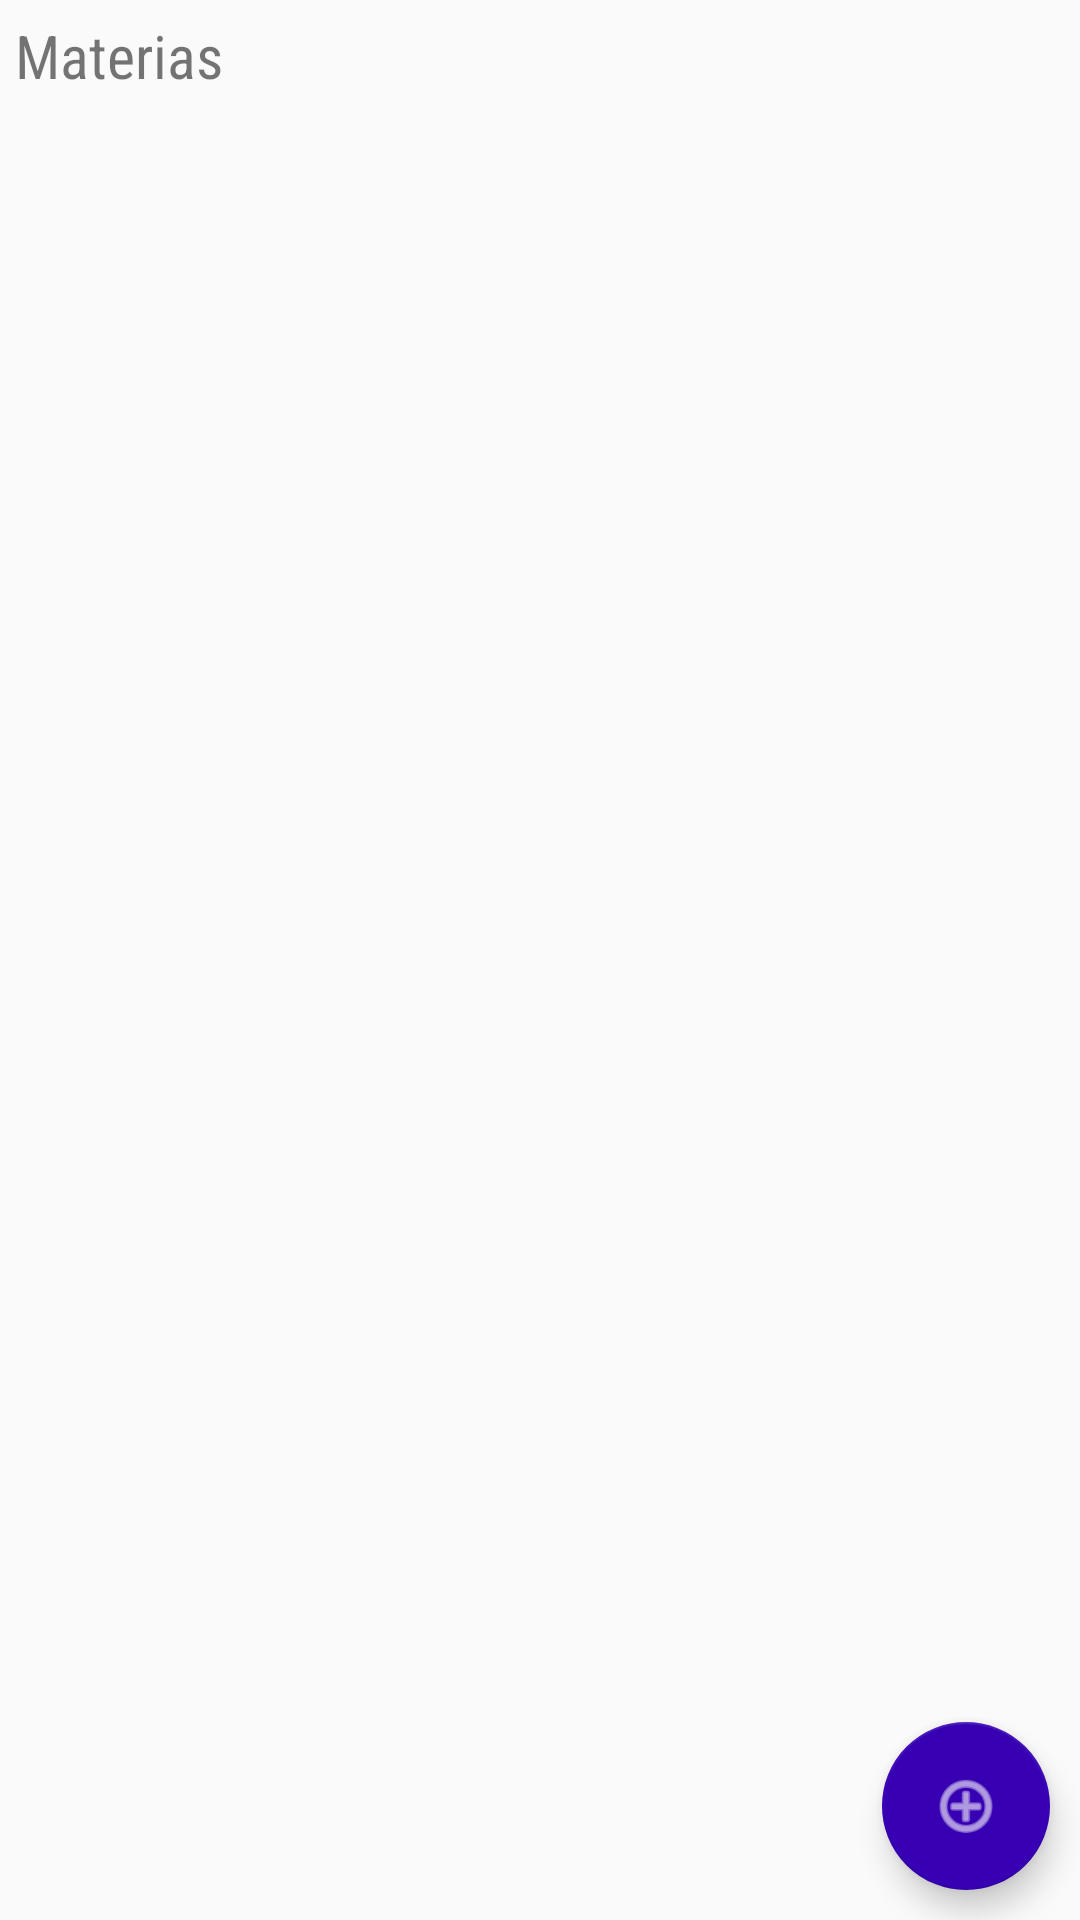

Screen size 1080px x 1920px. Icon name, then its center in pixels as point (x, y):
add: point (966, 1806)
